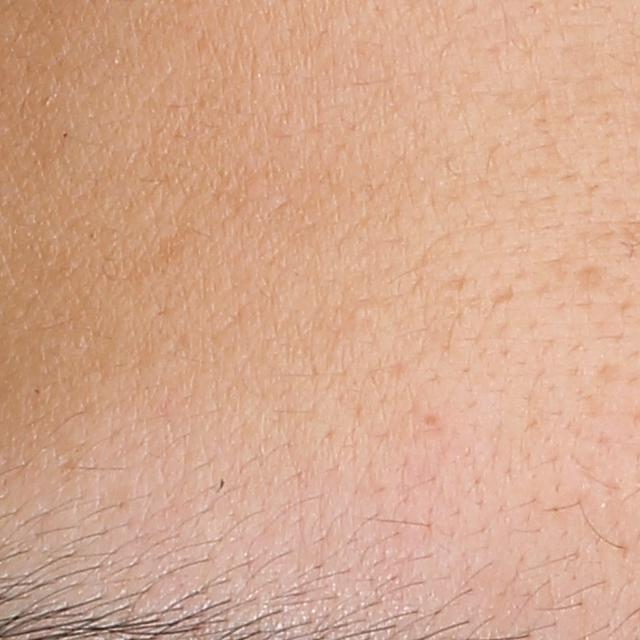atrophic_scar: (572, 261, 611, 301)
comedo: (344, 306, 370, 326)
